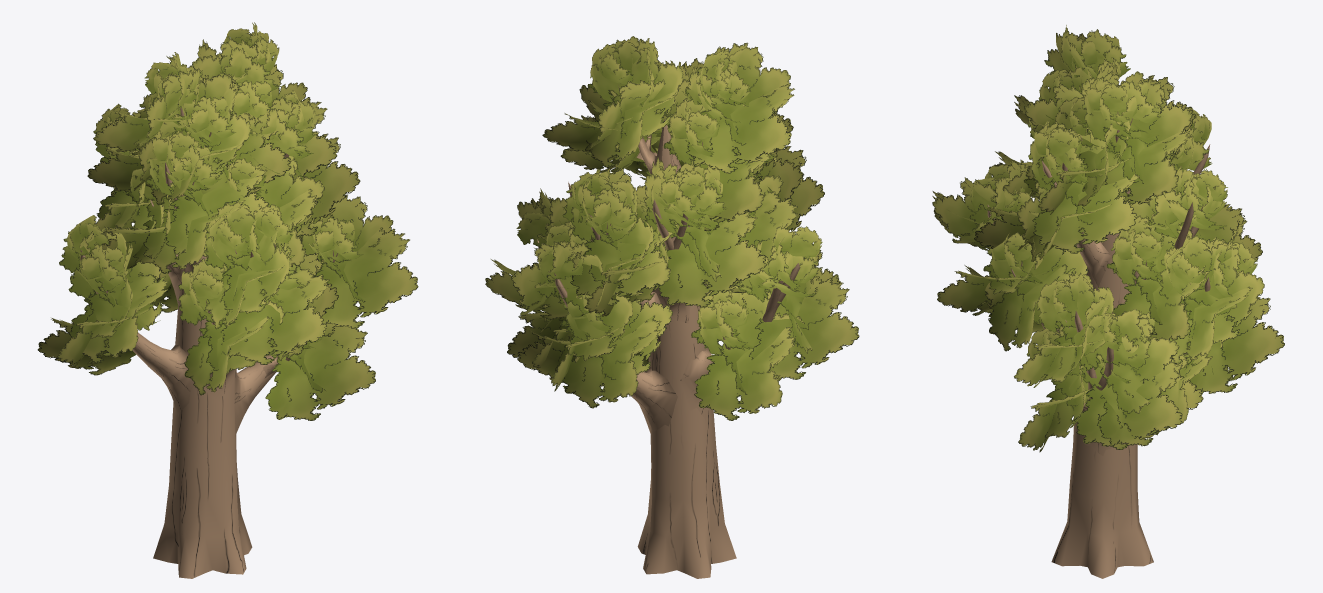
Rendered from tree_a_LOD0.fbx.
The picture shows the model from 3 angles, left to right: view 1: azimuth 30°, elevation 25°; view 2: azimuth 150°, elevation 25°; view 3: azimuth 270°, elevation 25°; orthographic projection.
Visible parts, largest first — view 1: tree_a_LOD0; view 2: tree_a_LOD0; view 3: tree_a_LOD0.
Part boxes in pixels (box(x1,y1,x2,y2)): tree_a_LOD0: box(37, 22, 418, 578); tree_a_LOD0: box(485, 36, 859, 578); tree_a_LOD0: box(932, 25, 1284, 578).
Size of the model in its own units: 491 by 657 by 450.
